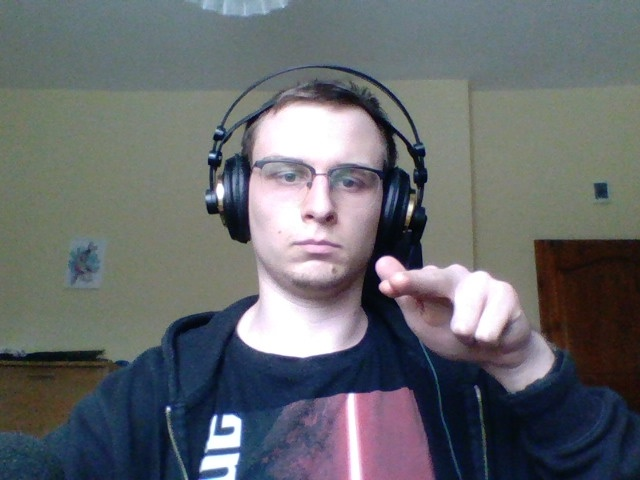no: (364, 248, 540, 368)
